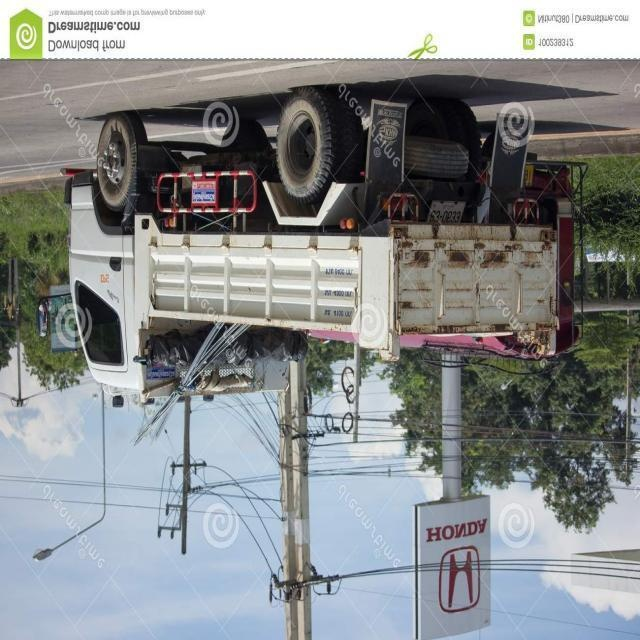Truck: (61, 90, 584, 444)
